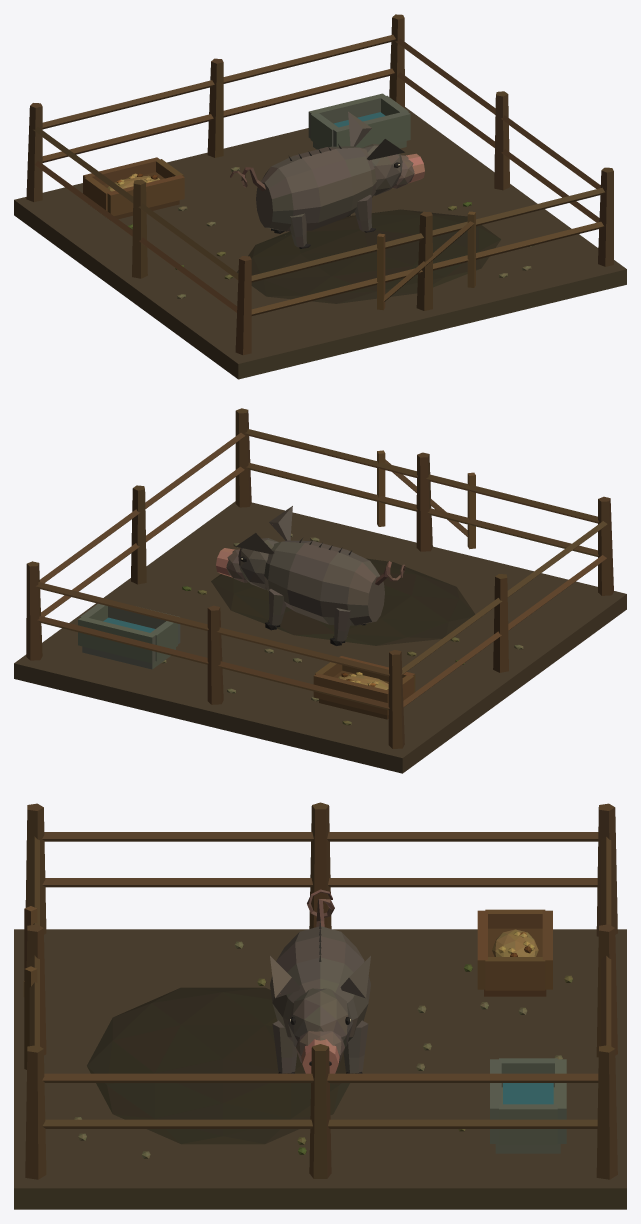
File: elevage_cochon_petit.glb
3 views of the same model, one above another, from view 1: azimuth 30°, elevation 25°; view 2: azimuth 150°, elevation 25°; view 3: azimuth 270°, elevation 25° (orthographic). The views are drawn at different scales.
Visible parts, largest first — view 1: Enclos_petit, Cochon_00; view 2: Enclos_petit, Cochon_00; view 3: Enclos_petit, Cochon_00.
Boxes of the visible parts, box(x1,y1,x2,y2) form: Enclos_petit: box(14, 14, 626, 379); Cochon_00: box(230, 111, 424, 248); Enclos_petit: box(14, 408, 626, 773); Cochon_00: box(216, 506, 405, 645); Enclos_petit: box(14, 802, 626, 1209); Cochon_00: box(270, 889, 370, 1073).
Bounding box in the file's own units: 0.472 × 0.132 × 0.472.
